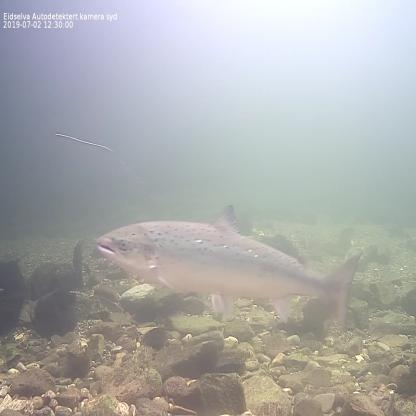salmon: (94, 199, 365, 331)
